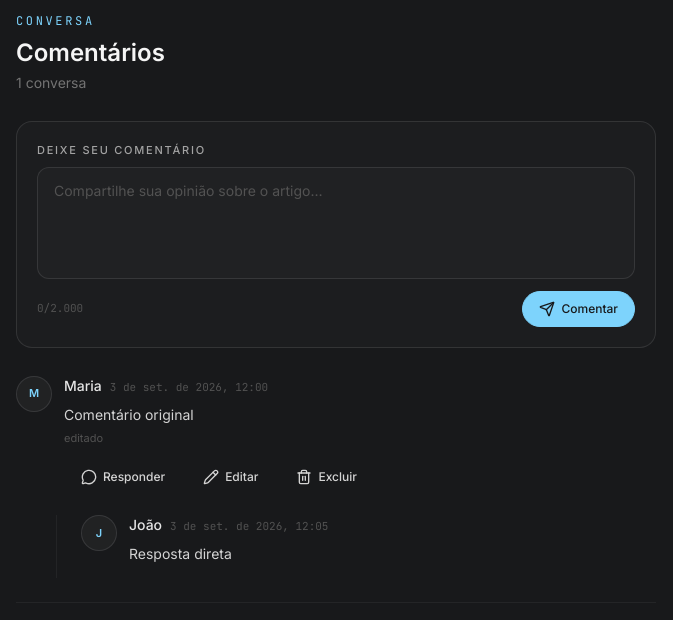
Test: seção de comentários › remove a criação otimista quando a publicação falha
The width and height of the screenshot is (673, 620).
In the text box labelled "Deixe seu comentário": (336, 222) [37,166,635,278], type "Comentário que falhou"
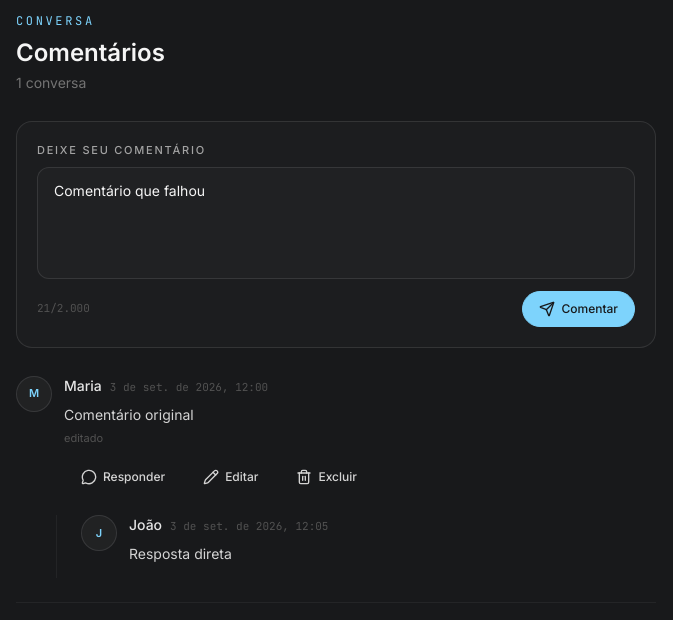
Click the button "Comentar": (579, 308) [522,290,635,326]
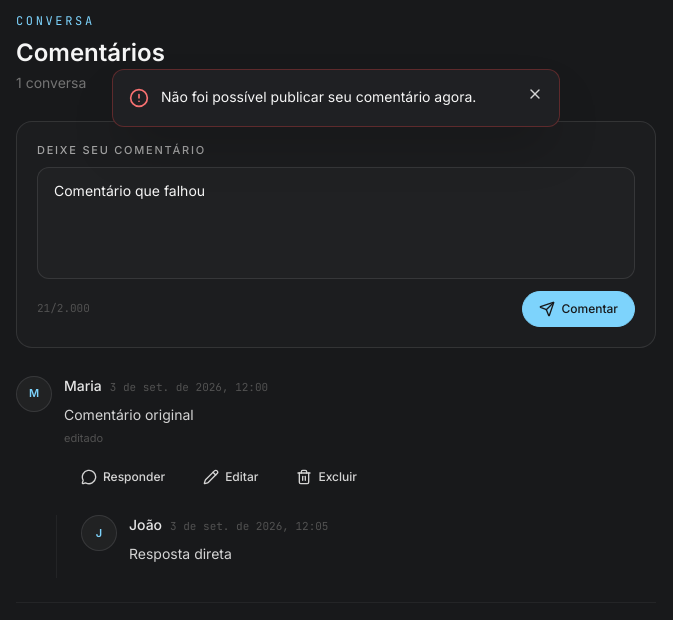
Now the message reads "Não foi possível publicar seu comentário agora.", box [161,88,476,105]
